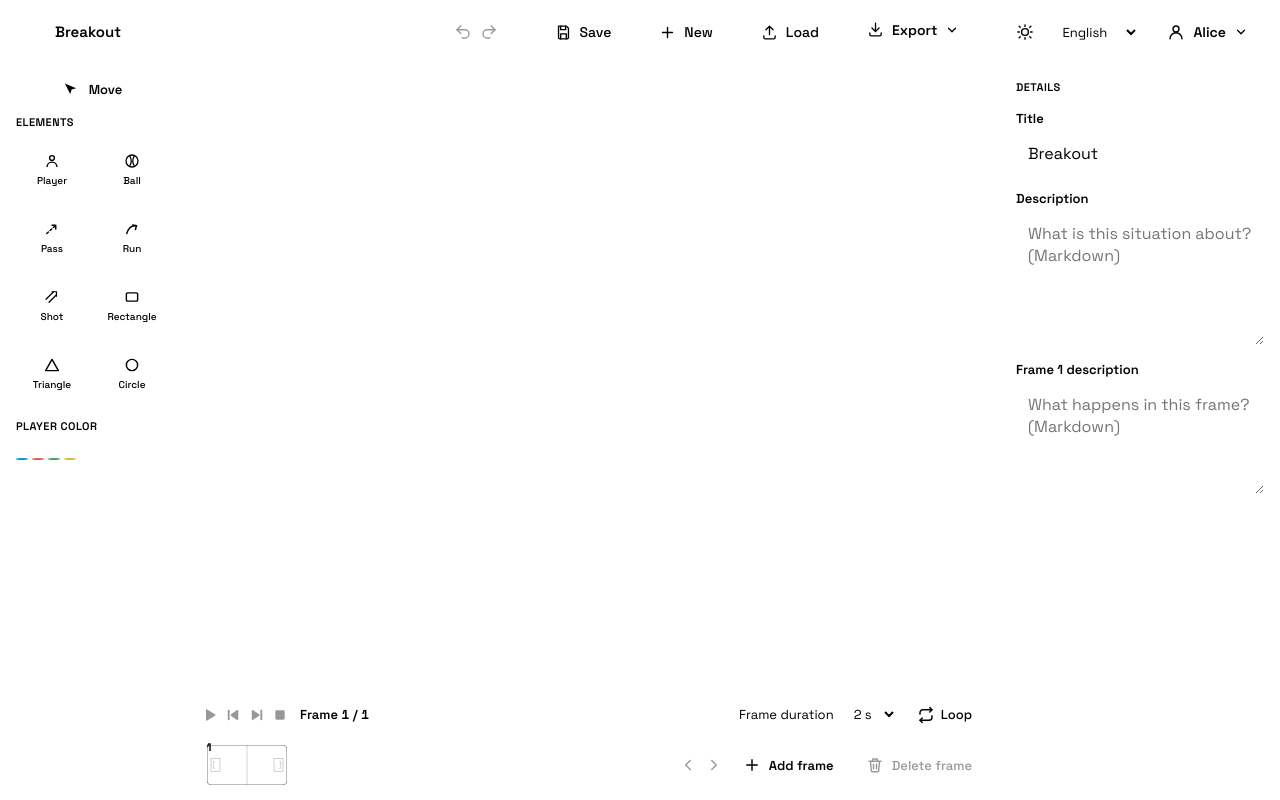
Test case: editor page: saving on the server › logged in › shows who created and changed a saved situation in the details panel
Click the button "Save". click: coordinates (583, 32)
box: [538, 23, 627, 41]
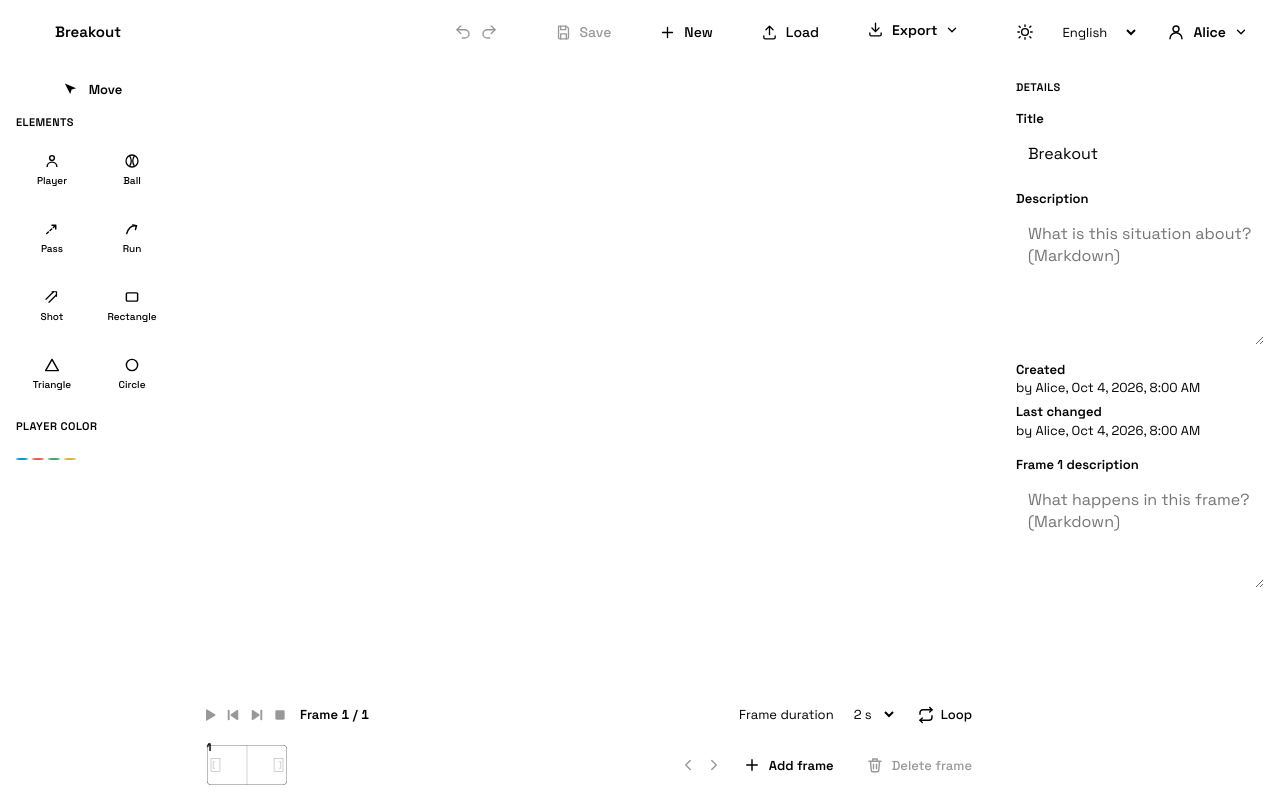
Result: the element showing "by Alice, Oct 4, 2026, 8:00 AM" below "Last changed" is shown at [1016, 422, 1072, 438]
